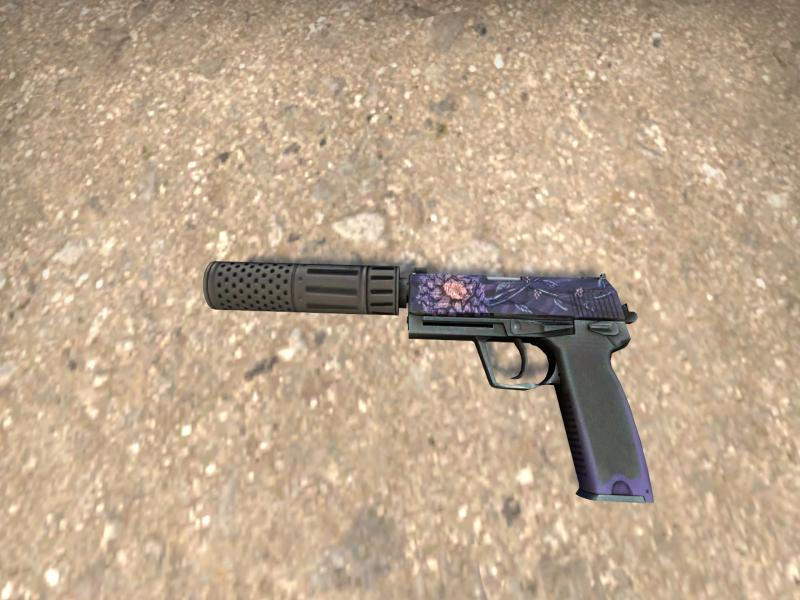USP: (202, 260, 653, 503)
